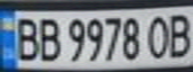7: (103, 14, 124, 62)
8: (121, 14, 145, 61)
9: (81, 15, 106, 62), (63, 14, 87, 62)
B: (9, 14, 42, 62), (33, 14, 63, 62), (166, 10, 193, 58)
O: (145, 11, 172, 60)
